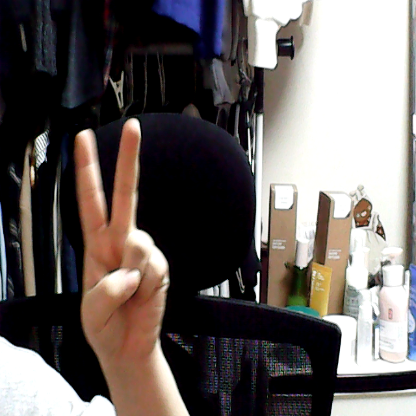Finger_2: (55, 101, 200, 365)
